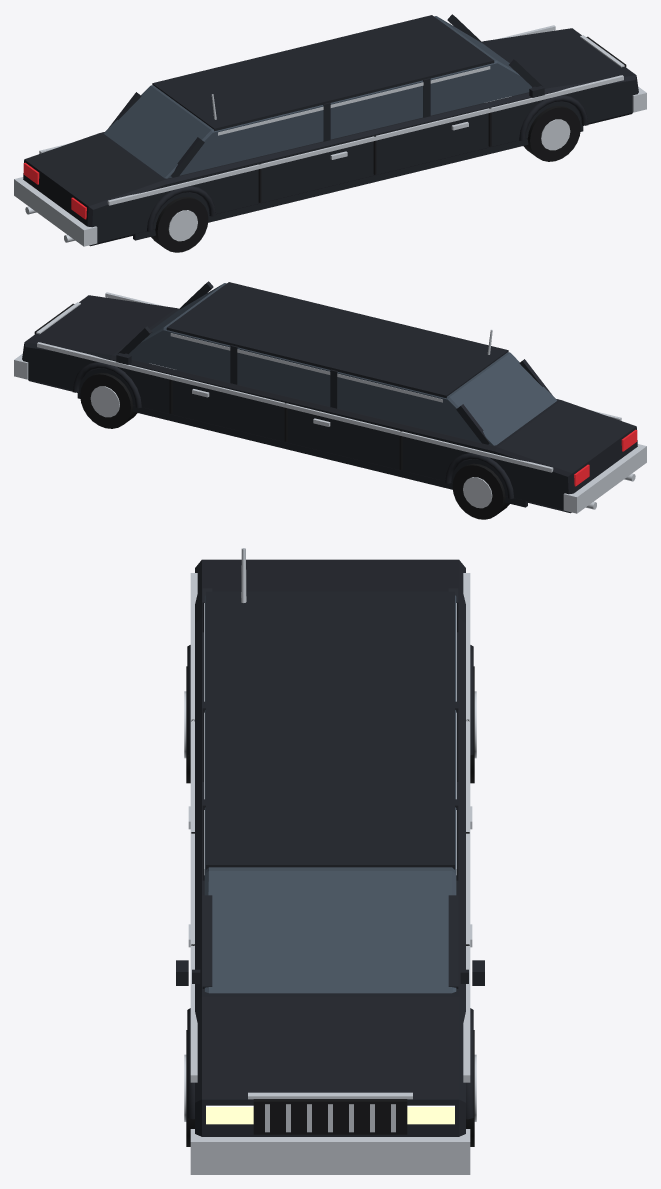
Rendered from limousine.glb.
3 renders of one model, top to bottom at view 1: azimuth 30°, elevation 25°; view 2: azimuth 150°, elevation 25°; view 3: azimuth 270°, elevation 25°, orthographic. The views are drawn at different scales.
Parts seen in each view (by area): view 1: body_lower, roof, greenhouse_glass, beltline_l, rocker_l, bumper_rear, tire_1, tire_3, wintop_l, hubcap_3, hubcap_1, arch_3.1_l (+2 smaller); view 2: body_lower, roof, greenhouse_glass, beltline_r, rocker_r, bumper_rear, tire_2, tire_4, wintop_r, hubcap_4, hubcap_2, arch_3.1_r (+2 smaller); view 3: roof, body_lower, greenhouse_glass, bumper_front, grille, beltline_l, beltline_r, grille_frame, pillar_a_r, pillar_a_l, headlamp_r, headlamp_l.
Part boxes in pixels (bbox=[...]): body_lower: bbox=[23, 28, 638, 246]; roof: bbox=[152, 15, 494, 131]; greenhouse_glass: bbox=[103, 16, 532, 178]; beltline_l: bbox=[107, 75, 623, 205]; rocker_l: bbox=[133, 125, 583, 240]; bumper_rear: bbox=[14, 177, 97, 246]; tire_1: bbox=[523, 106, 580, 161]; tire_3: bbox=[151, 196, 208, 252]; wintop_l: bbox=[218, 66, 490, 135]; hubcap_3: bbox=[168, 210, 197, 241]; hubcap_1: bbox=[541, 119, 570, 150]; arch_3.1_l: bbox=[519, 95, 588, 141]; body_lower: bbox=[22, 295, 637, 513]; roof: bbox=[166, 282, 508, 398]; greenhouse_glass: bbox=[128, 283, 556, 445]; beltline_r: bbox=[37, 342, 553, 472]; rocker_r: bbox=[77, 392, 527, 507]; bumper_rear: bbox=[563, 444, 646, 513]; tire_2: bbox=[80, 373, 137, 428]; tire_4: bbox=[452, 463, 509, 519]; wintop_r: bbox=[170, 333, 442, 402]; hubcap_4: bbox=[463, 477, 492, 508]; hubcap_2: bbox=[90, 386, 119, 417]; arch_3.1_r: bbox=[72, 362, 141, 408]; roof: bbox=[206, 591, 454, 869]; body_lower: bbox=[195, 559, 465, 1136]; greenhouse_glass: bbox=[204, 595, 456, 993]; bumper_front: bbox=[190, 1129, 470, 1174]; grille: bbox=[253, 1099, 407, 1134]; beltline_l: bbox=[190, 573, 197, 1082]; beltline_r: bbox=[463, 573, 470, 1082]; grille_frame: bbox=[248, 1092, 412, 1099]; pillar_a_r: bbox=[448, 895, 458, 988]; pillar_a_l: bbox=[202, 895, 212, 988]; headlamp_r: bbox=[407, 1105, 454, 1124]; headlamp_l: bbox=[206, 1105, 253, 1124].
Bounding box in the file's own units: 9.34 × 2.15 × 2.21.
